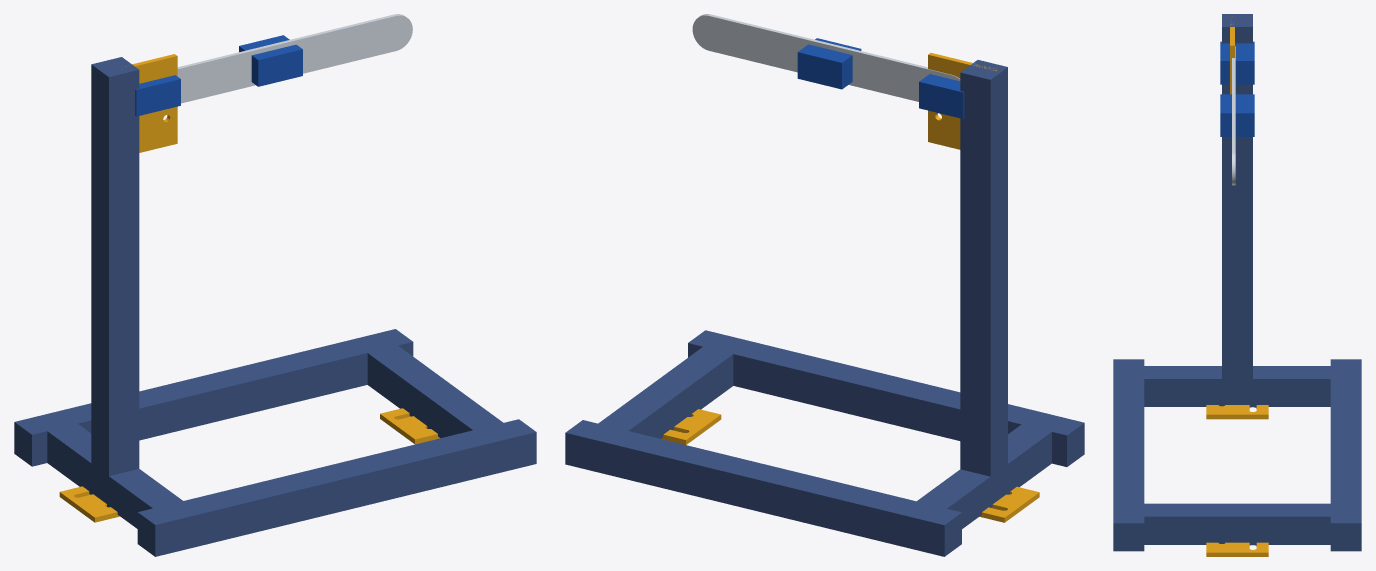
The model's file is HR-V0_preliminary_assembly.glb.
3 views of the same model, side by side, from view 1: azimuth 30°, elevation 25°; view 2: azimuth 150°, elevation 25°; view 3: azimuth 270°, elevation 25° (orthographic). The views are drawn at different scales.
Visible parts, largest first — view 1: column, base_rear, base_front, base_right, base_left, MV0_002_forearm, MV0_001_upper, MV0_003_adapter, J2_XM540_envelope, J1_XM540_envelope, MV0_004_anchor_left, MV0_004_anchor_right; view 2: column, base_front, base_rear, base_right, base_left, MV0_002_forearm, MV0_001_upper, J2_XM540_envelope, MV0_003_adapter, J1_XM540_envelope, MV0_004_anchor_left, MV0_004_anchor_right; view 3: column, base_right, base_left, base_rear, base_front, J2_XM540_envelope, J1_XM540_envelope, MV0_004_anchor_left, MV0_004_anchor_right, MV0_002_forearm.
Boxes of the visible parts, x1=… form: column: x1=91, y1=57, x2=139, y2=475; base_rear: x1=137, y1=419, x2=536, y2=556; base_front: x1=14, y1=329, x2=413, y2=466; base_right: x1=367, y1=345, x2=503, y2=438; base_left: x1=47, y1=423, x2=182, y2=528; MV0_002_forearm: x1=271, y1=14, x2=412, y2=73; MV0_001_upper: x1=177, y1=44, x2=284, y2=103; MV0_003_adapter: x1=125, y1=54, x2=177, y2=152; J2_XM540_envelope: x1=239, y1=35, x2=302, y2=86; J1_XM540_envelope: x1=135, y1=75, x2=180, y2=116; MV0_004_anchor_left: x1=59, y1=486, x2=119, y2=522; MV0_004_anchor_right: x1=380, y1=408, x2=439, y2=444; column: x1=960, y1=60, x2=1007, y2=476; base_front: x1=565, y1=420, x2=961, y2=556; base_rear: x1=688, y1=330, x2=1084, y2=466; base_right: x1=598, y1=346, x2=733, y2=438; base_left: x1=917, y1=424, x2=1051, y2=528; MV0_002_forearm: x1=692, y1=14, x2=840, y2=72; MV0_001_upper: x1=820, y1=44, x2=960, y2=101; J2_XM540_envelope: x1=797, y1=38, x2=861, y2=89; MV0_003_adapter: x1=928, y1=53, x2=996, y2=149; J1_XM540_envelope: x1=919, y1=74, x2=964, y2=118; MV0_004_anchor_left: x1=979, y1=486, x2=1039, y2=522; MV0_004_anchor_right: x1=661, y1=409, x2=721, y2=444; column: x1=1222, y1=14, x2=1252, y2=378; base_right: x1=1144, y1=503, x2=1330, y2=544; base_left: x1=1144, y1=366, x2=1330, y2=406; base_rear: x1=1113, y1=359, x2=1144, y2=551; base_front: x1=1330, y1=359, x2=1361, y2=551; J2_XM540_envelope: x1=1220, y1=94, x2=1254, y2=136; J1_XM540_envelope: x1=1220, y1=41, x2=1254, y2=84; MV0_004_anchor_left: x1=1206, y1=405, x2=1268, y2=419; MV0_004_anchor_right: x1=1206, y1=542, x2=1268, y2=556; MV0_002_forearm: x1=1232, y1=100, x2=1235, y2=185.
Bounding box in the file's own units: 520 × 543 × 320.
